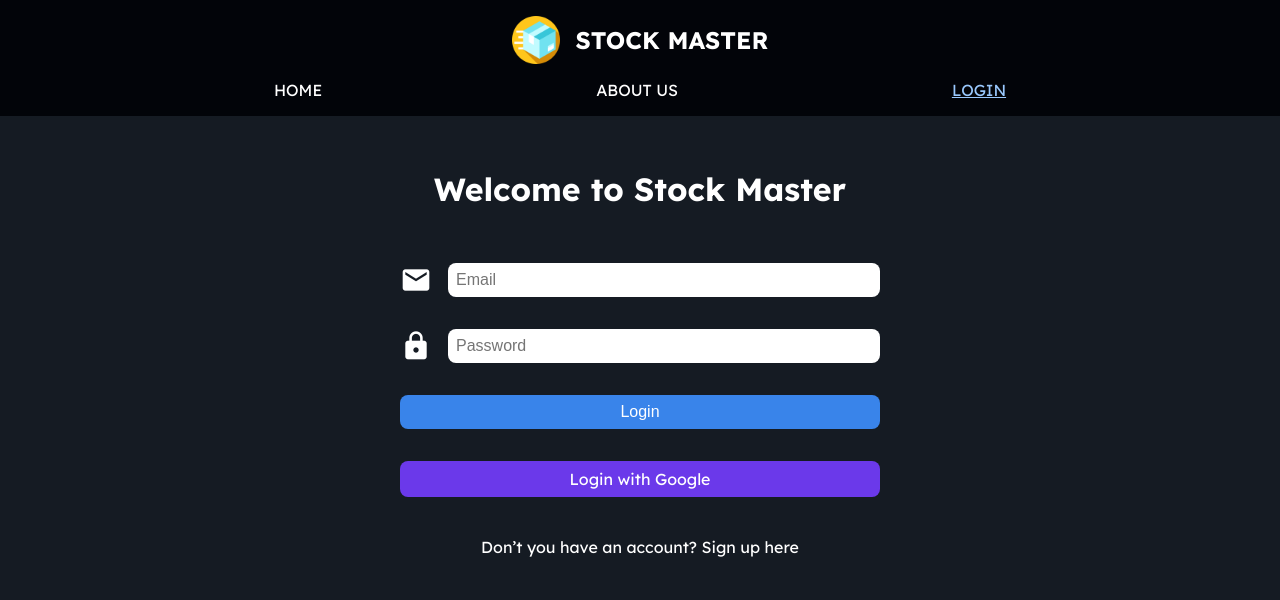
Test case: Inventory creation › should create a new inventory and show success message
Type "user@example.com" into the field named "email". click: coordinates (664, 280)
box: 448,263 -> 880,297
Type "password123" into the password field named "password". click: coordinates (664, 346)
box: 448,329 -> 880,363
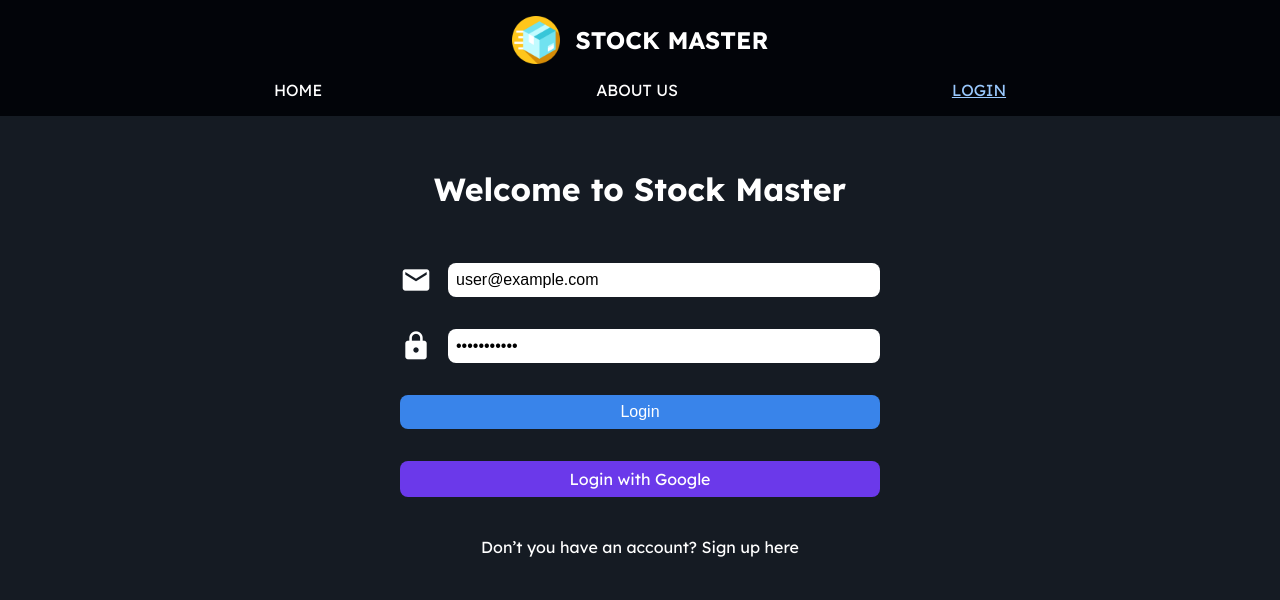
Submit the form, box 400,148 -> 880,565
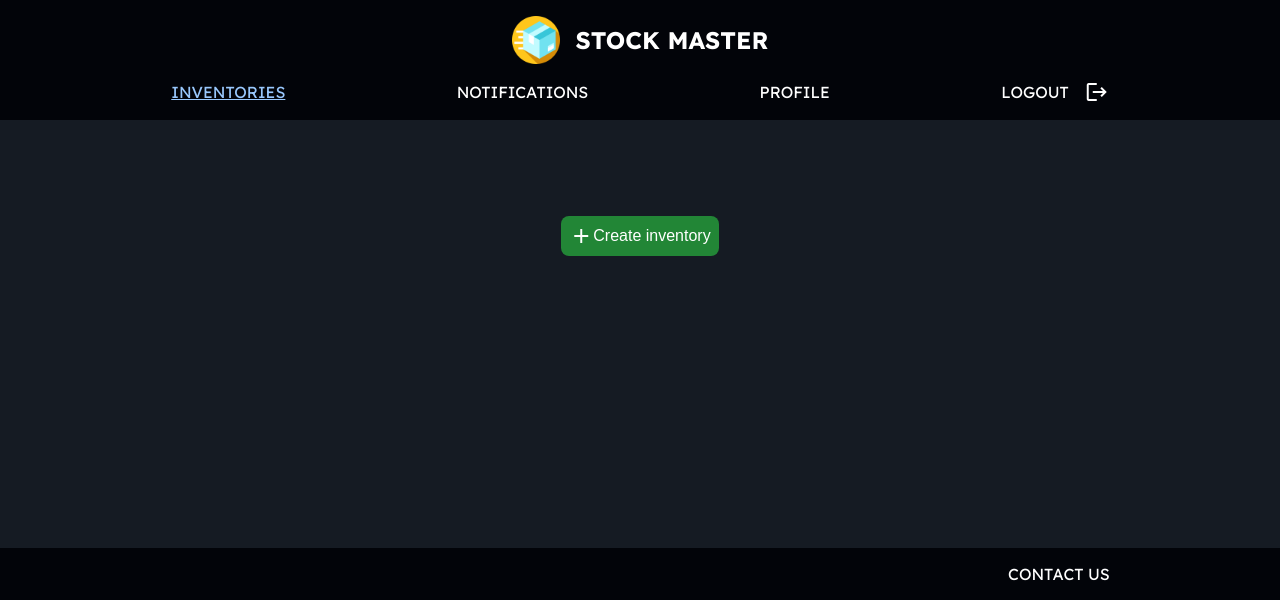
Click the button "Create inventory". click: coordinates (640, 236)
box: 561,216 -> 718,256
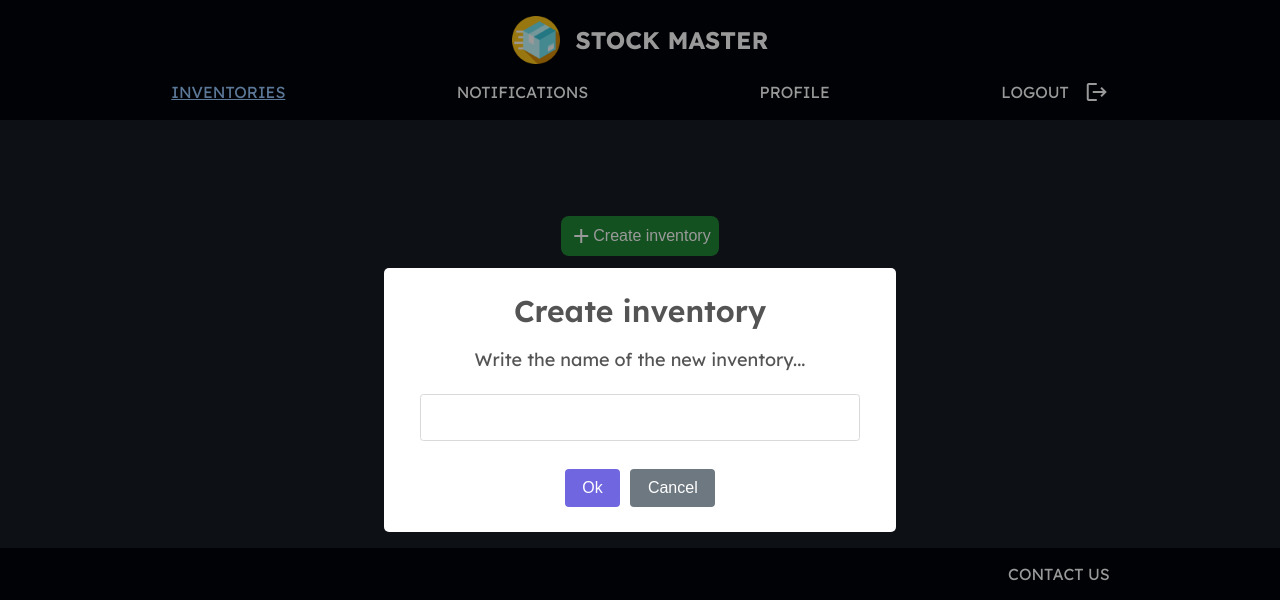
Type "Nuevo Inventario" into the field with class "swal2-input". click: coordinates (640, 418)
box: 420,394 -> 860,441
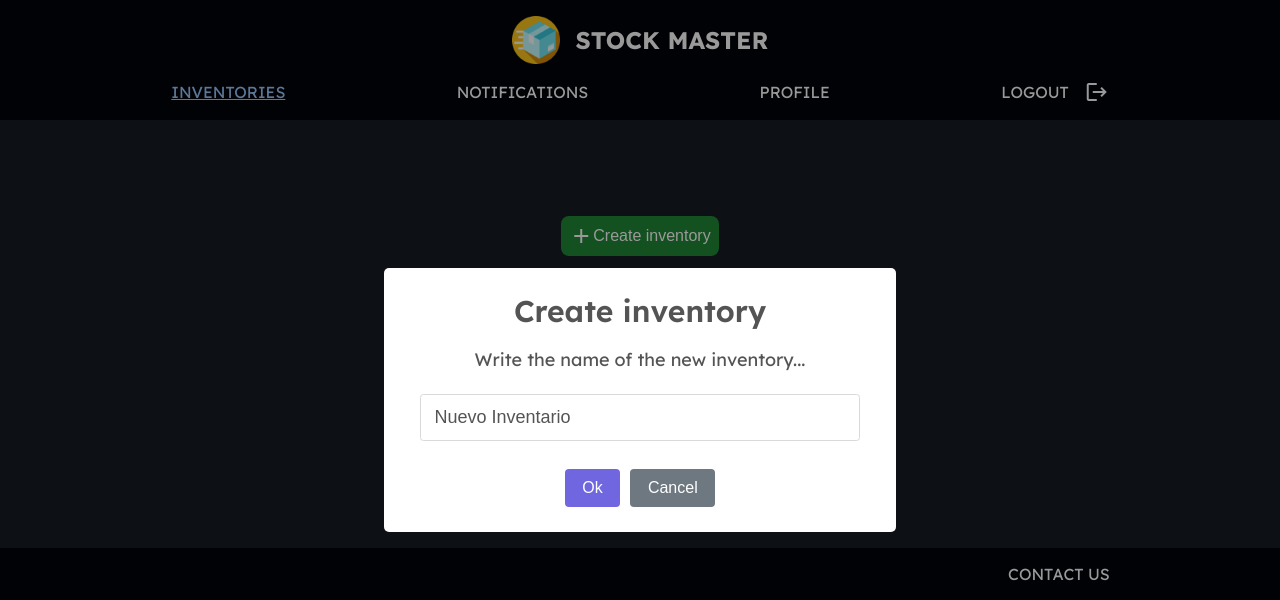
Click the button with class "swal2-confirm". click: coordinates (593, 488)
box: 565,469 -> 621,507
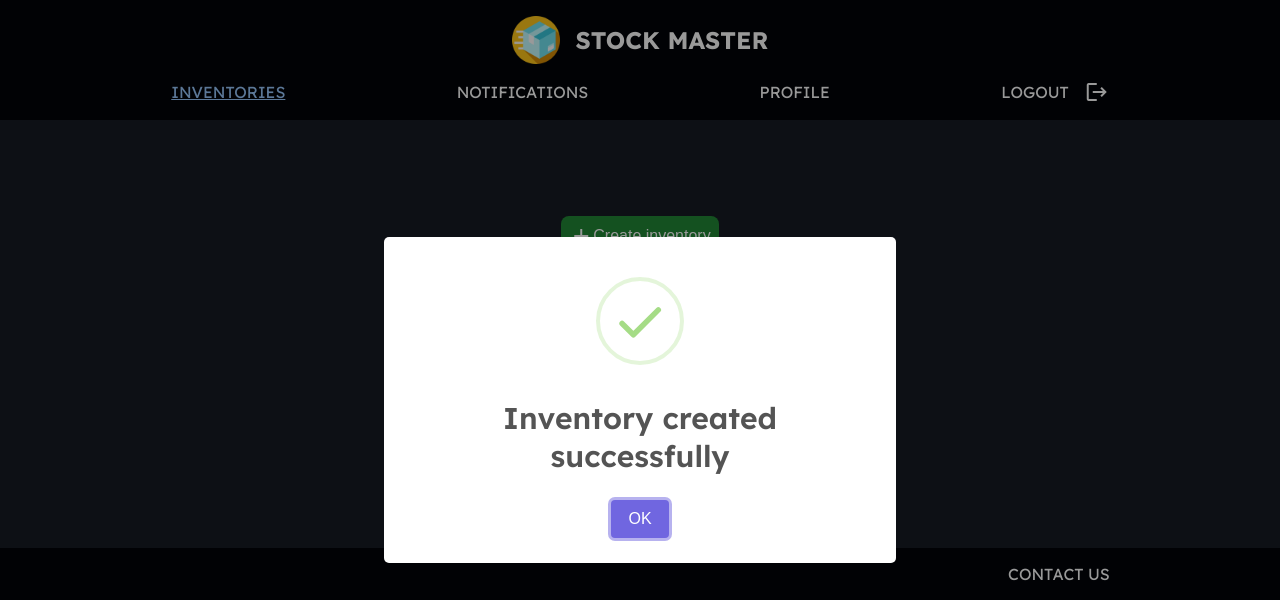
Expected: the heading with class "swal2-title" reads "Inventory created successfully", 503,399 -> 777,475
Click the button with class "swal2-confirm". click: coordinates (640, 519)
box: 611,500 -> 669,538
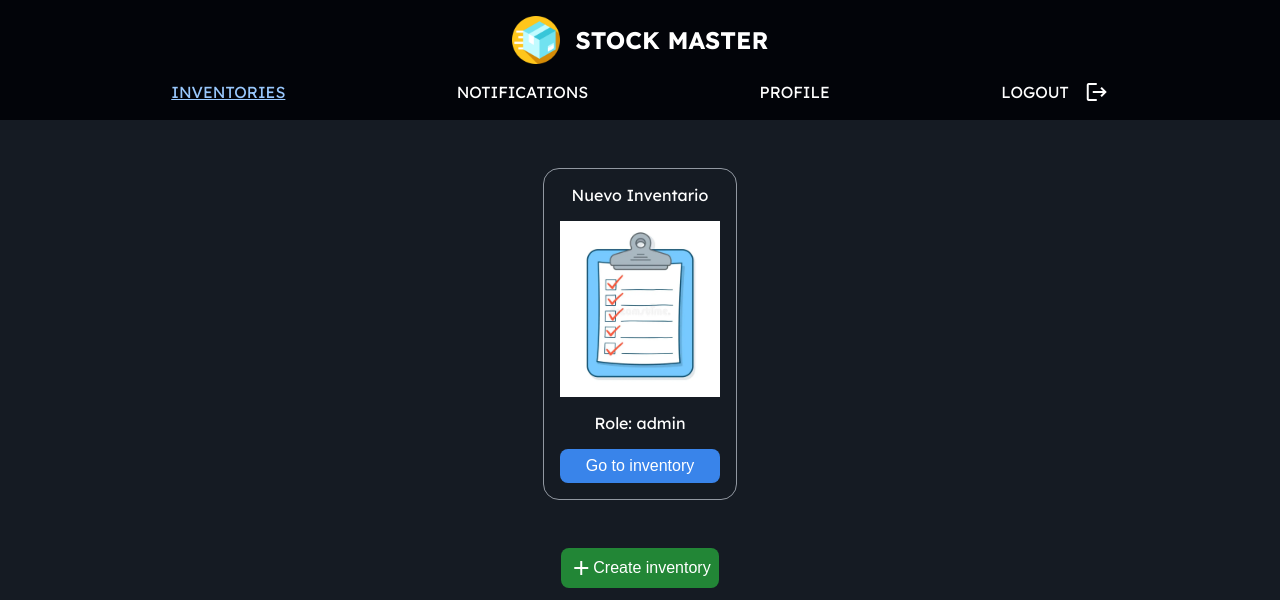
Expected: the text "Nuevo Inventario" is shown, 572,185 -> 708,205
